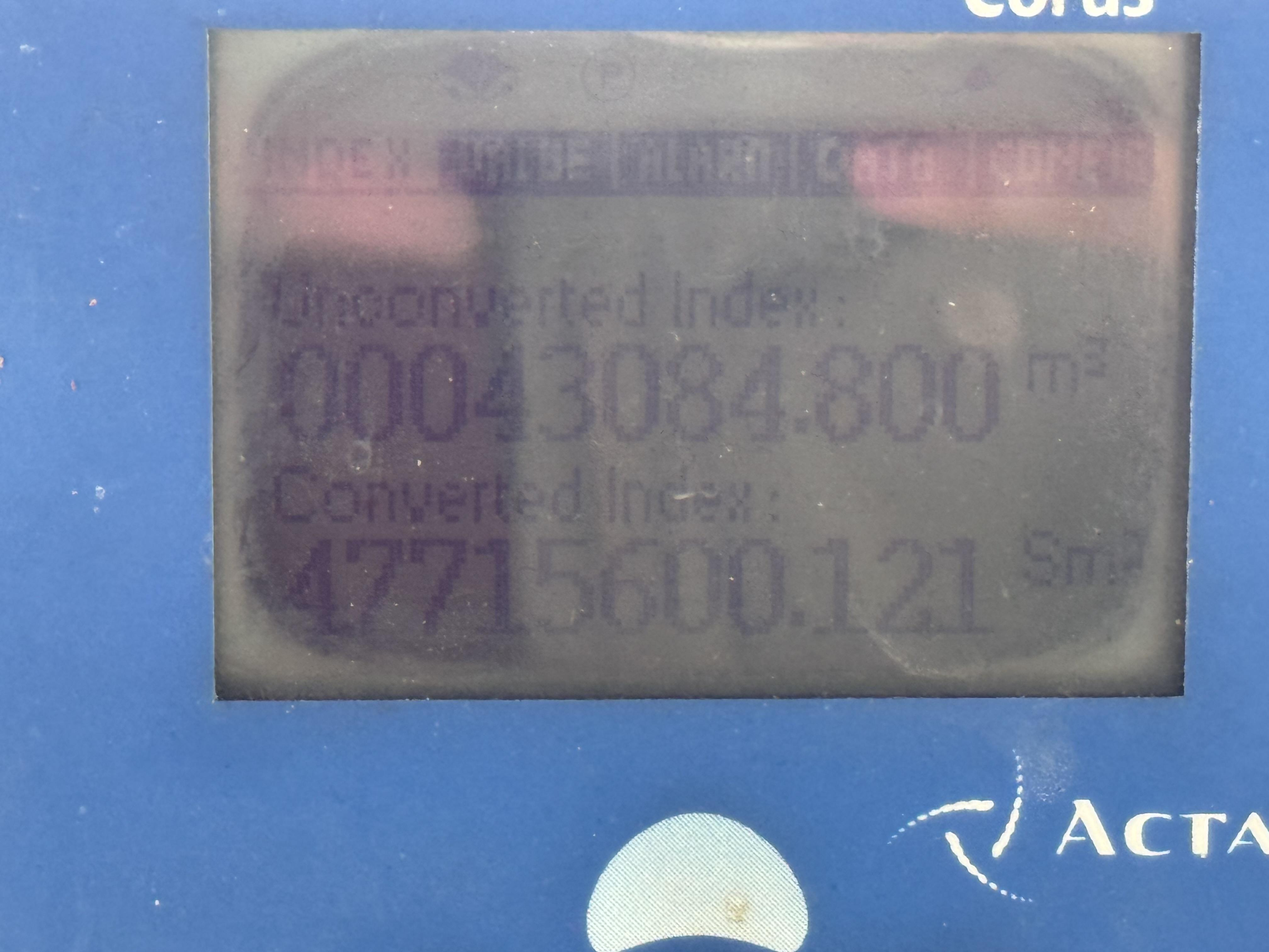digital_screen: (210, 27, 1203, 699)
